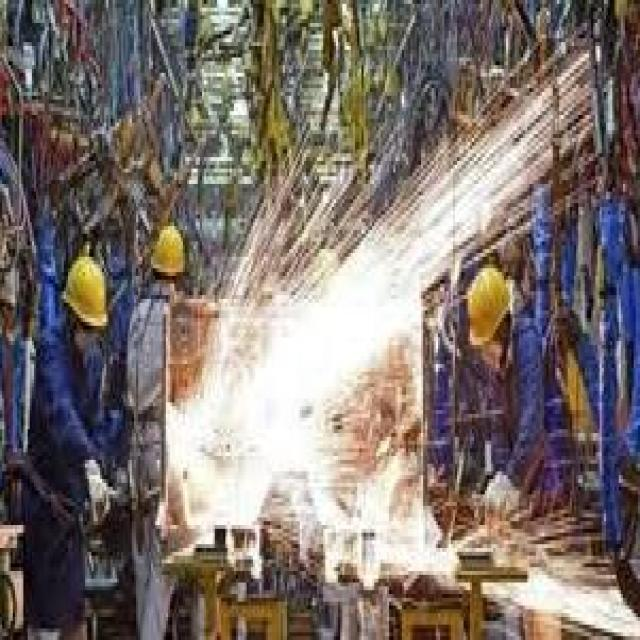Safety-Helmet: (457, 253, 521, 372), (55, 241, 119, 349), (140, 211, 196, 299)
